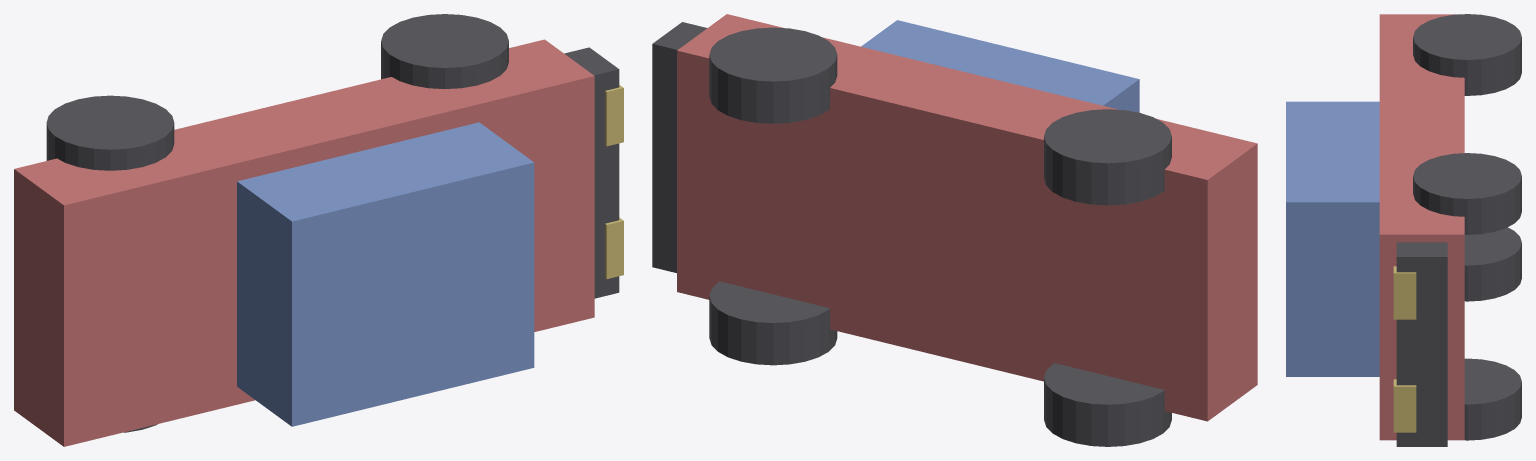
The model's file is simple_car.glb.
3 renders of one model, left to right at view 1: azimuth 30°, elevation 25°; view 2: azimuth 150°, elevation 25°; view 3: azimuth 270°, elevation 25°, orthographic. The views are drawn at different scales.
Visible parts, largest first — view 1: body, cabin, wheel_4, wheel_2, front, left_light, right_light; view 2: body, wheel_2, wheel_4, cabin, wheel_1, wheel_3, front; view 3: cabin, body, front, wheel_2, wheel_4, wheel_1, wheel_3, left_light, right_light.
Boxes of the visible parts, x1,y1,x2,y2 form: body: (14, 39, 594, 446); cabin: (237, 122, 534, 426); wheel_4: (46, 95, 174, 170); wheel_2: (381, 14, 508, 88); front: (564, 47, 619, 298); left_light: (605, 217, 623, 279); right_light: (605, 85, 623, 146); body: (677, 14, 1257, 421); wheel_2: (709, 27, 837, 123); wheel_4: (1044, 109, 1171, 205); cabin: (861, 20, 1139, 112); wheel_1: (709, 281, 837, 365); wheel_3: (1044, 363, 1171, 446); front: (652, 22, 707, 272); cabin: (1286, 101, 1379, 376); body: (1379, 14, 1464, 440); front: (1396, 242, 1447, 446); wheel_2: (1413, 153, 1521, 234); wheel_4: (1413, 14, 1521, 95); wheel_1: (1464, 358, 1521, 440); wheel_3: (1464, 227, 1521, 301); left_light: (1393, 379, 1416, 432); right_light: (1393, 266, 1416, 319).
Bounding box in the file's own units: 4.92 × 2.35 × 2.08.
